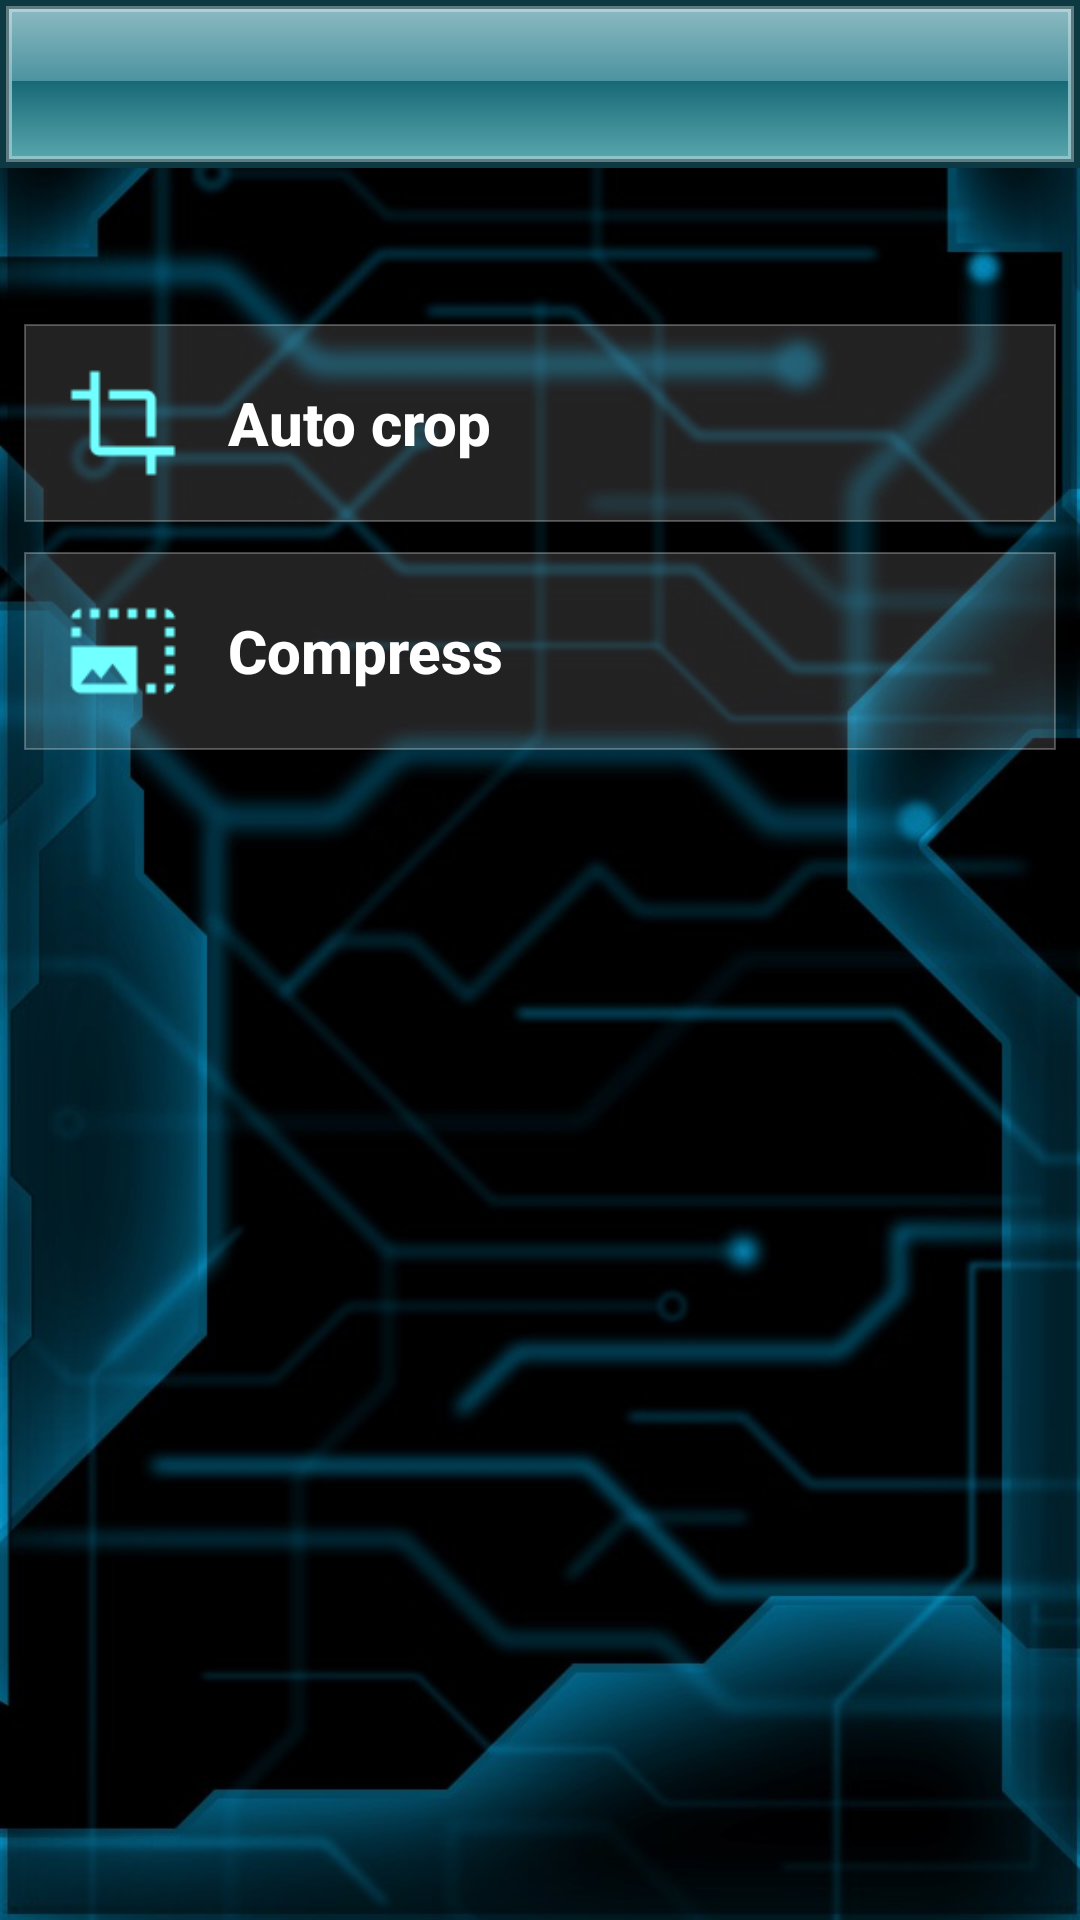

Where to tap for icons on this 1080 × 1920 app screen, as point (x, y):
resize: point (123, 651)
